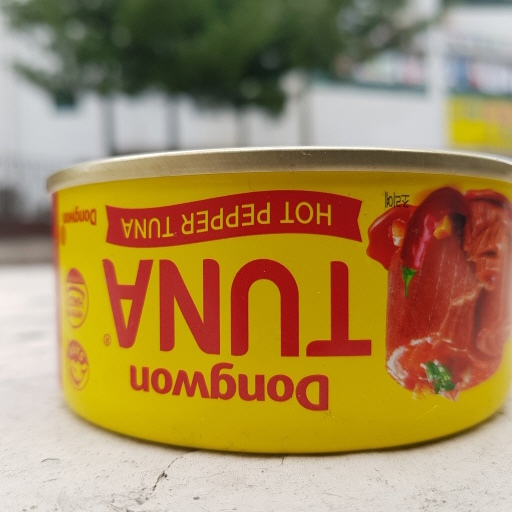Metal_1: (41, 143, 512, 454)
